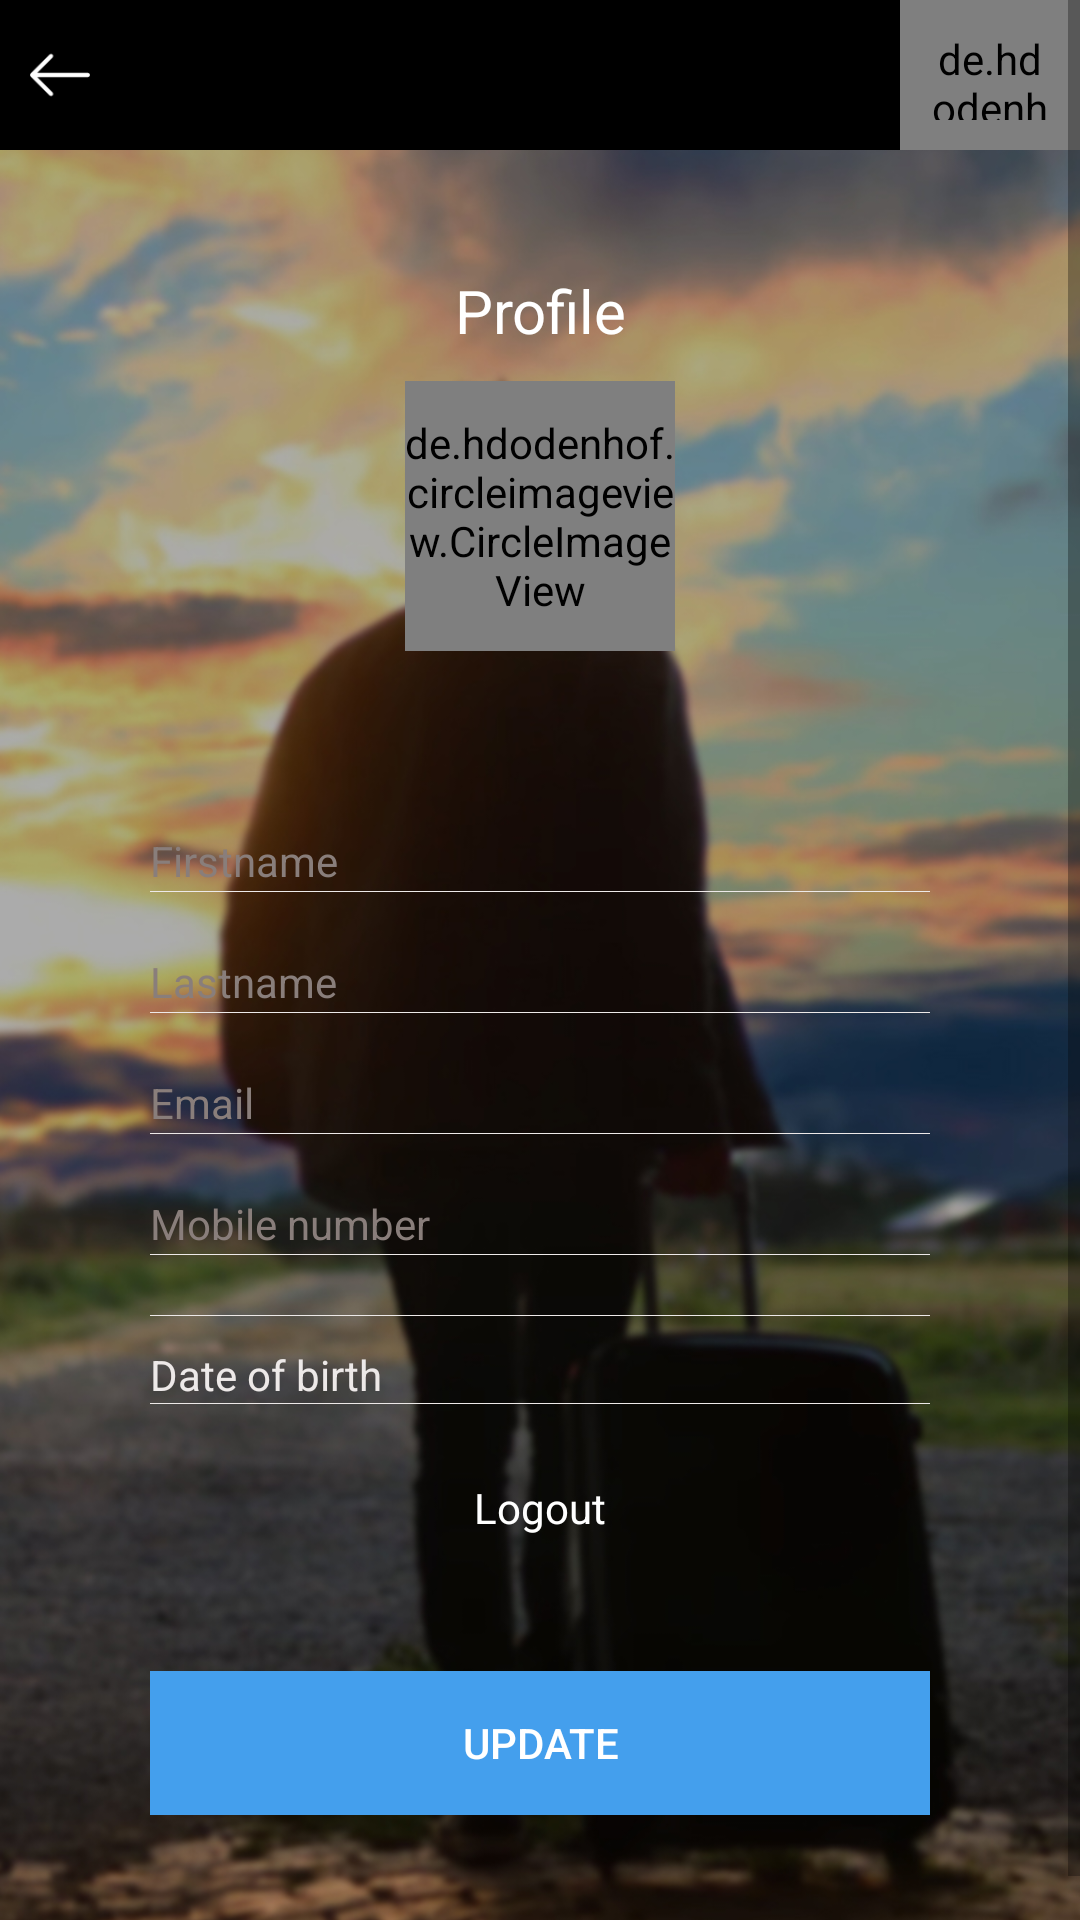

Named icons in this screenshot (1080px×1920px) and their centers, (x=x, y=y):
back: (x=60, y=75)
